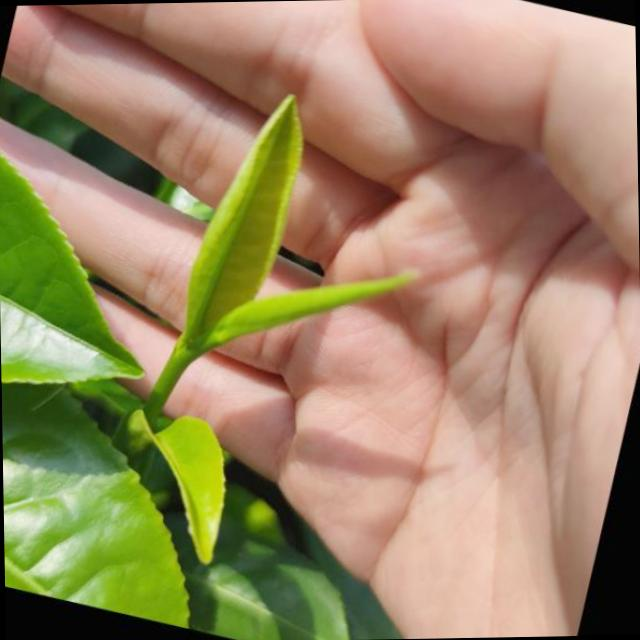Stem: (164, 343, 197, 375)
